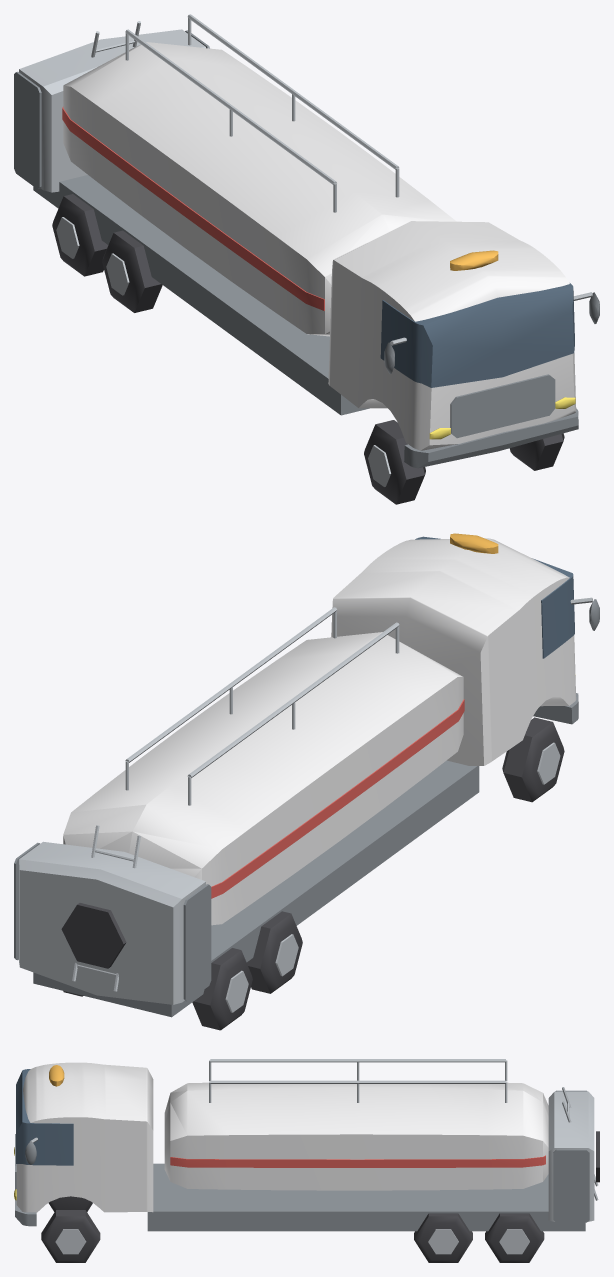
The model's file is camion_citerne.glb.
3 renders of one model, top to bottom at view 1: azimuth 30°, elevation 25°; view 2: azimuth 150°, elevation 25°; view 3: azimuth 270°, elevation 25°, orthographic. The views are drawn at different scales.
Visible parts, largest first — view 1: citerne, carrosserie, roues; view 2: citerne, carrosserie, roues; view 3: citerne, carrosserie, roues.
Part boxes in pixels (box(x1,y1,x2,y2)): citerne: box(14, 14, 456, 336); carrosserie: box(33, 175, 599, 468); roues: box(52, 194, 564, 504); citerne: box(14, 607, 464, 1004); carrosserie: box(33, 533, 599, 1017); roues: box(63, 717, 564, 1030); citerne: box(164, 1059, 599, 1222); carrosserie: box(14, 1062, 585, 1231); roues: box(41, 1196, 544, 1262).
Size of the model in its own units: 3.06 by 3.21 by 10.3.
